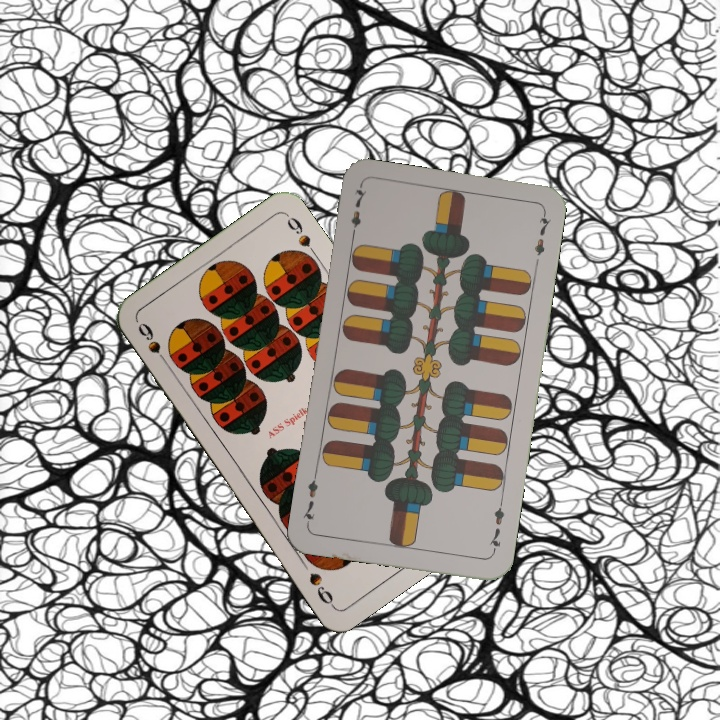E7: (485, 497, 507, 556), (347, 182, 369, 241)
S9: (133, 318, 173, 371)
